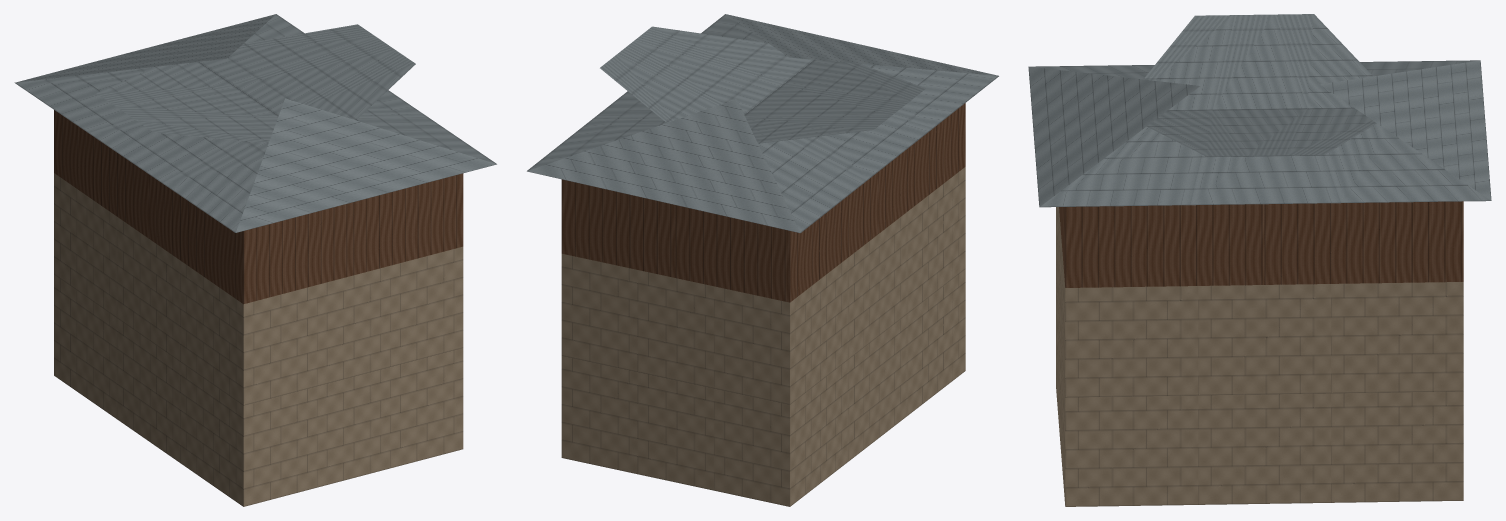
File: bld_c41_-49_460.gltf
The picture shows the model from 3 angles, left to right: view 1: azimuth 30°, elevation 25°; view 2: azimuth 150°, elevation 25°; view 3: azimuth 270°, elevation 25°; orthographic projection. The views are drawn at different scales.
Visible parts, largest first — view 1: bld_c41_-49_460; view 2: bld_c41_-49_460; view 3: bld_c41_-49_460.
Part boxes in pixels (x1,y1,x2,y2): bld_c41_-49_460: [14, 14, 496, 506]; bld_c41_-49_460: [527, 14, 998, 506]; bld_c41_-49_460: [1028, 14, 1491, 506].
Size of the model in its own units: 6.48 by 7.4 by 8.63.
Materials: 3 (3 with a texture image).
